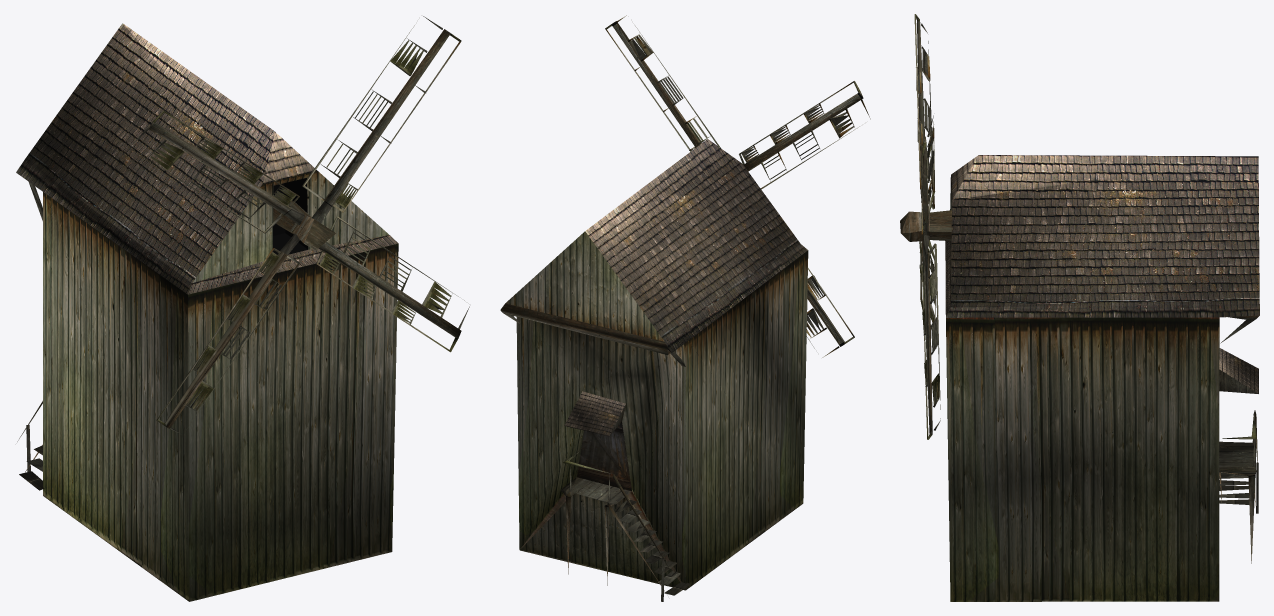
3 views of the same model, side by side, from view 1: azimuth 30°, elevation 25°; view 2: azimuth 150°, elevation 25°; view 3: azimuth 270°, elevation 25° (orthographic). The views are drawn at different scales.
Parts seen in each view (by area): view 1: natalin; view 2: natalin; view 3: natalin.
Part boxes in pixels (box(x1,y1,x2,y2)): natalin: box(16, 16, 469, 601); natalin: box(500, 15, 870, 601); natalin: box(900, 14, 1259, 601).
Bounding box in the file's own units: 441 × 649 × 425.
